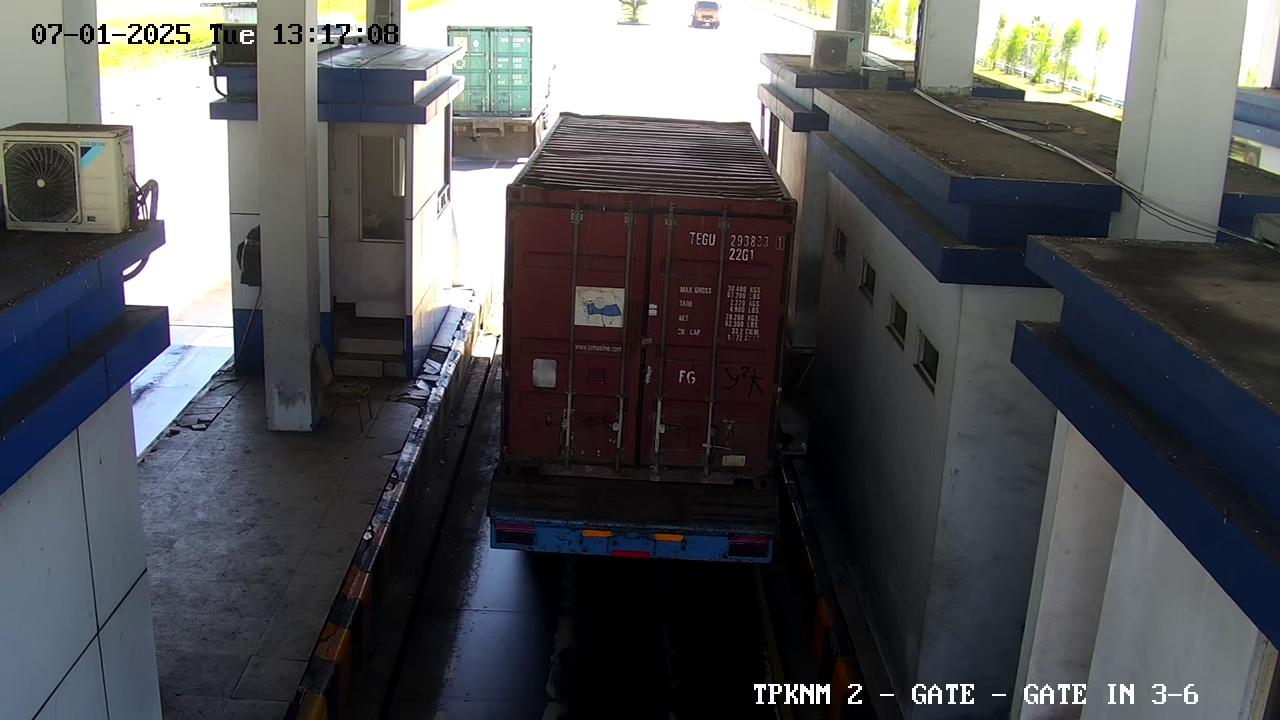Container_ID: (669, 222, 802, 270)
